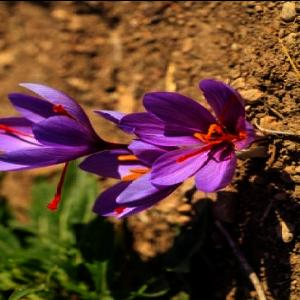Saffron: (128, 82, 248, 181), (89, 107, 190, 213), (0, 82, 116, 170)
